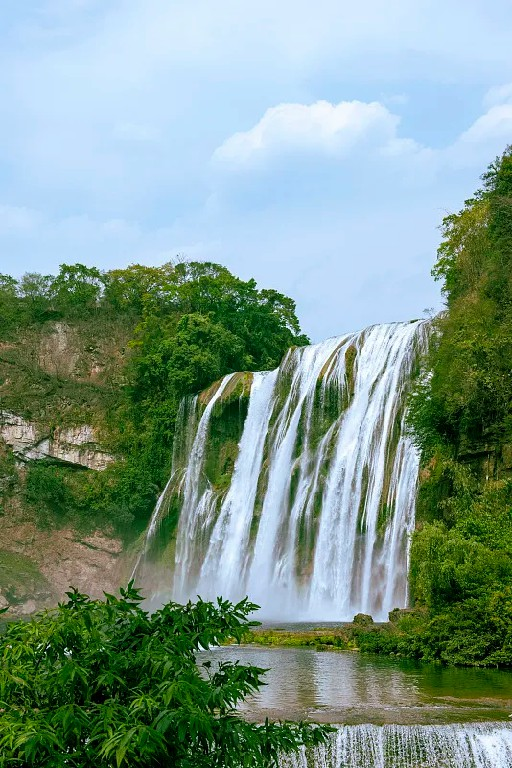Huangguoshu: (147, 317, 421, 621)
